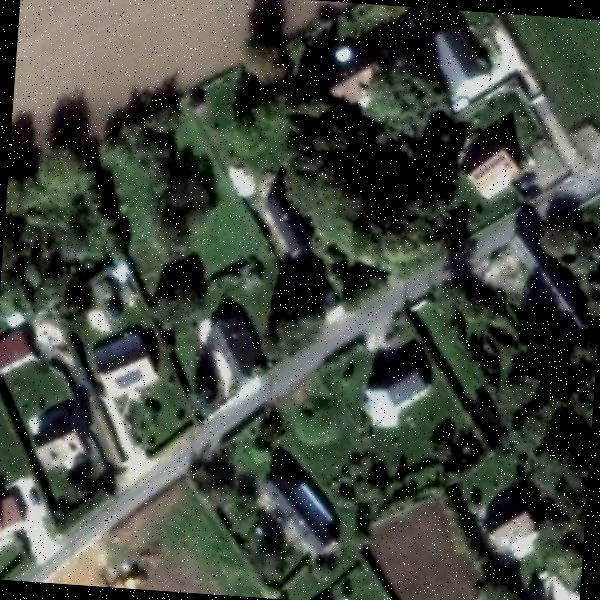Buildings: (266, 484, 326, 546), (100, 338, 162, 392), (372, 370, 432, 420), (43, 409, 82, 464), (264, 203, 304, 249), (490, 512, 538, 547), (476, 152, 516, 189), (215, 328, 252, 368), (336, 58, 372, 99), (0, 329, 34, 371), (0, 485, 24, 540)
